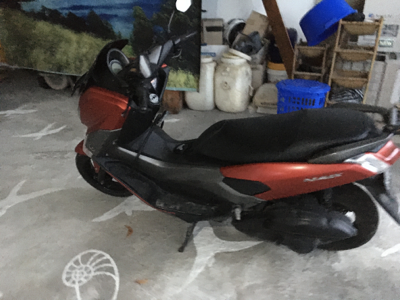moto: (68, 28, 394, 265)
